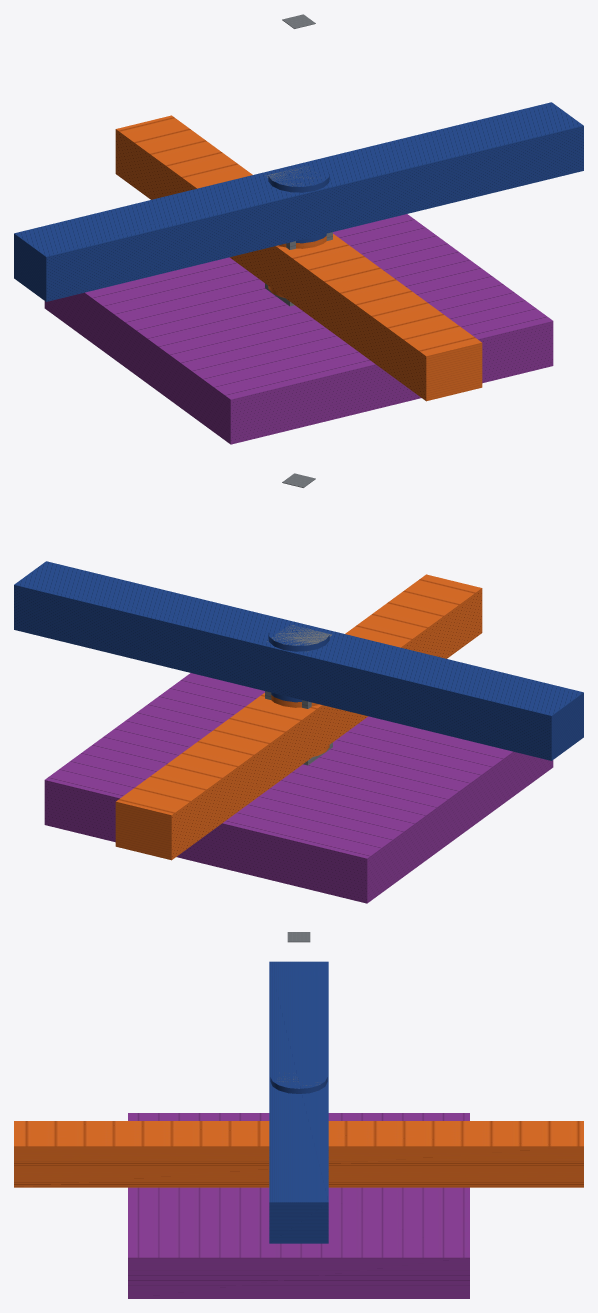
The picture shows the model from 3 angles, top to bottom: view 1: azimuth 30°, elevation 25°; view 2: azimuth 150°, elevation 25°; view 3: azimuth 270°, elevation 25°; orthographic projection. The views are drawn at different scales.
Parts seen in each view (by area): view 1: node_component_11110_05_03190_001_03_metro_line5_station, node_component_11110_05_03190_001_01_metro_line1_tube, node_component_11110_05_03190_001_02_metro_line3_tube; view 2: node_component_11110_05_03190_001_03_metro_line5_station, node_component_11110_05_03190_001_01_metro_line1_tube, node_component_11110_05_03190_001_02_metro_line3_tube; view 3: node_component_11110_05_03190_001_03_metro_line5_station, node_component_11110_05_03190_001_02_metro_line3_tube, node_component_11110_05_03190_001_01_metro_line1_tube.
Part boxes in pixels (x1,y1,x2,y2): node_component_11110_05_03190_001_03_metro_line5_station: (44,166,553,444); node_component_11110_05_03190_001_01_metro_line1_tube: (14,14,583,301); node_component_11110_05_03190_001_02_metro_line3_tube: (115,115,482,401); node_component_11110_05_03190_001_03_metro_line5_station: (44,625,553,903); node_component_11110_05_03190_001_01_metro_line1_tube: (14,473,583,760); node_component_11110_05_03190_001_02_metro_line3_tube: (115,574,482,860); node_component_11110_05_03190_001_03_metro_line5_station: (128,1078,469,1298); node_component_11110_05_03190_001_02_metro_line3_tube: (14,1121,583,1187); node_component_11110_05_03190_001_01_metro_line1_tube: (269,932,328,1243).
Bounding box in the file's own units: 50 × 28.05 × 50.
Materials: 4 (4 with a texture image).
